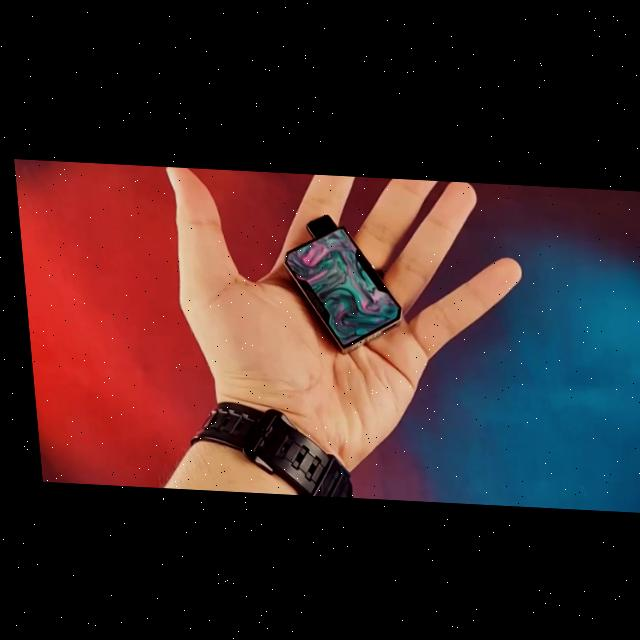vape: (275, 208, 402, 354)
